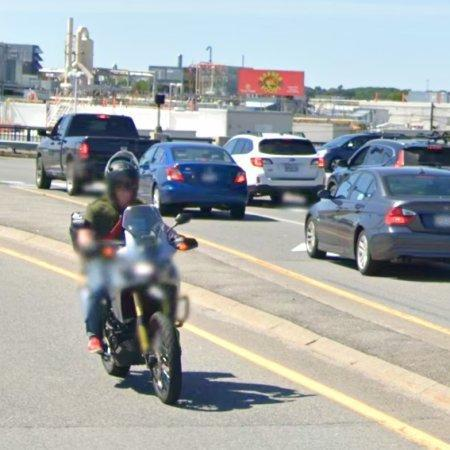motorcycles: (102, 206, 188, 405)
